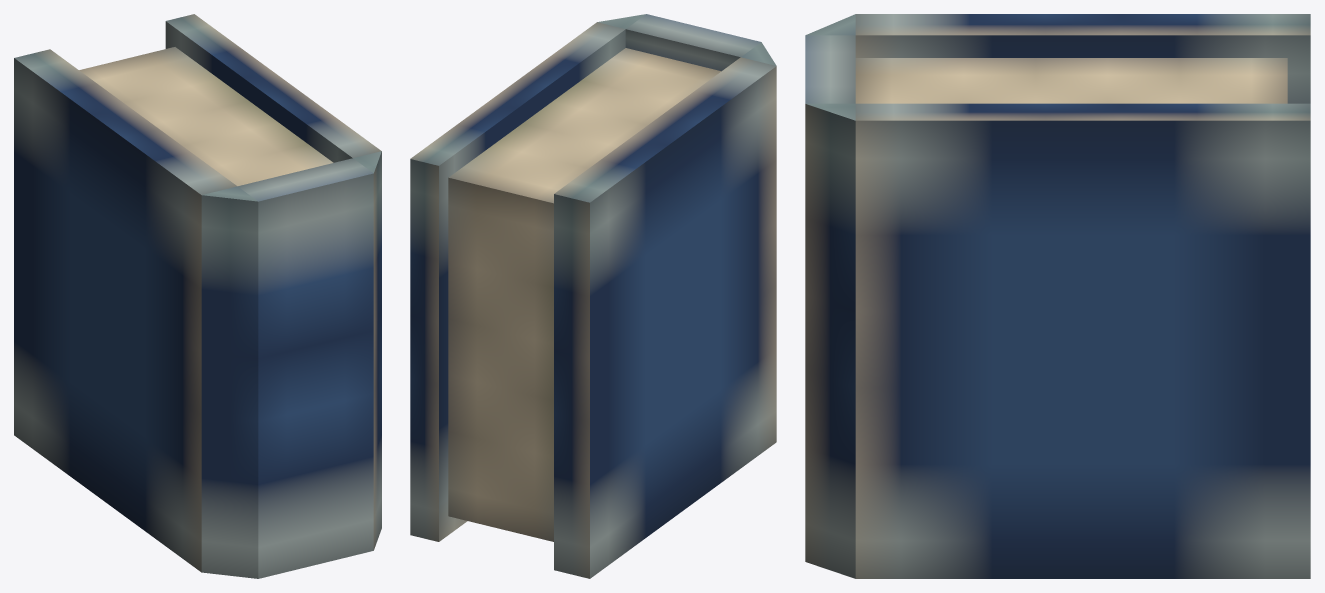
File: BookClosedBlue.fbx
3 views of the same model, side by side, from view 1: azimuth 30°, elevation 25°; view 2: azimuth 150°, elevation 25°; view 3: azimuth 270°, elevation 25° (orthographic). The views are drawn at different scales.
Parts seen in each view (by area): view 1: Book; view 2: Book; view 3: Book.
Boxes of the visible parts, left/top/right/bottom form: Book: left=14, top=14, right=381, bottom=578; Book: left=410, top=14, right=776, bottom=578; Book: left=805, top=14, right=1310, bottom=578.
Size of the model in its own units: 0.1875 by 0.375 by 0.375.
